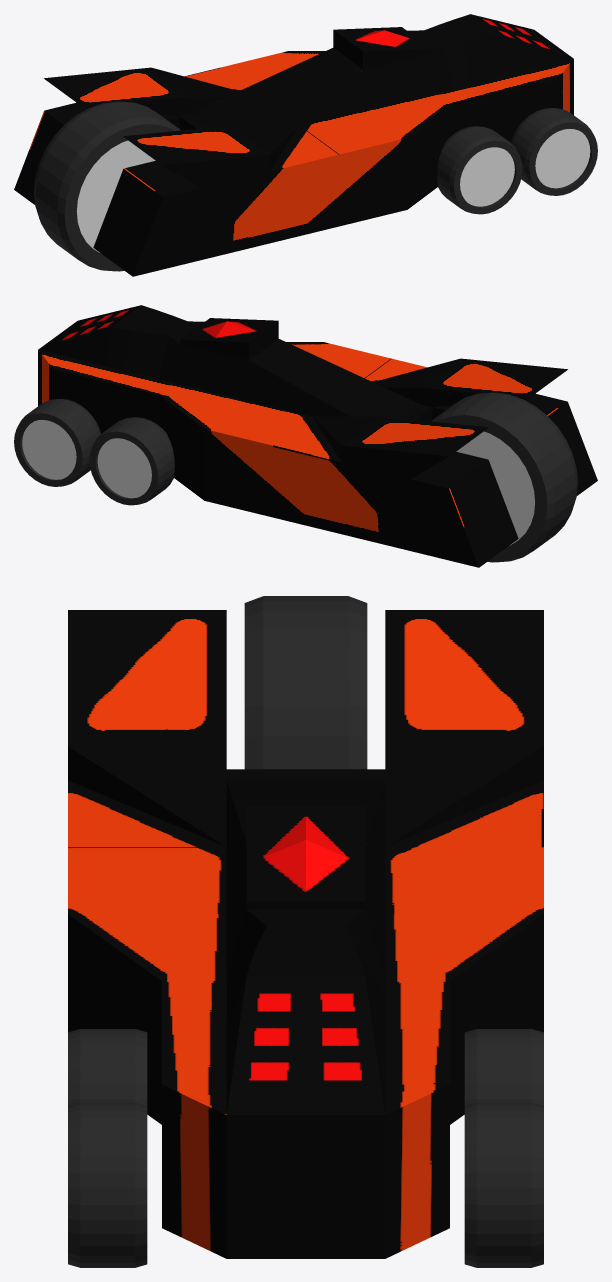
The model's file is Enemy.fbx.
3 renders of one model, top to bottom at view 1: azimuth 30°, elevation 25°; view 2: azimuth 150°, elevation 25°; view 3: azimuth 270°, elevation 25°, orthographic. The views are drawn at different scales.
Parts seen in each view (by area): view 1: Cube, Cylinder, Cylinder.003, Cylinder.004; view 2: Cube, Cylinder, Cylinder.002, Cylinder.001; view 3: Cube, Cylinder, Cylinder.001, Cylinder.004, Cylinder.002, Cylinder.003.
Boxes of the visible parts, x1,y1,x2,y2 form: Cube: (14, 14, 573, 276); Cylinder: (34, 101, 180, 271); Cylinder.003: (437, 126, 522, 214); Cylinder.004: (511, 107, 597, 195); Cube: (38, 305, 597, 567); Cylinder: (431, 392, 577, 562); Cylinder.002: (89, 417, 174, 505); Cylinder.001: (14, 398, 100, 486); Cube: (68, 610, 543, 1258); Cylinder: (244, 596, 367, 769); Cylinder.001: (464, 1102, 543, 1267); Cylinder.004: (68, 1102, 147, 1267); Cylinder.002: (464, 1029, 543, 1105); Cylinder.003: (68, 1029, 147, 1105).
Bounding box in the file's own units: 1479 × 462 × 600.
Materials: 11 (1 with a texture image).
